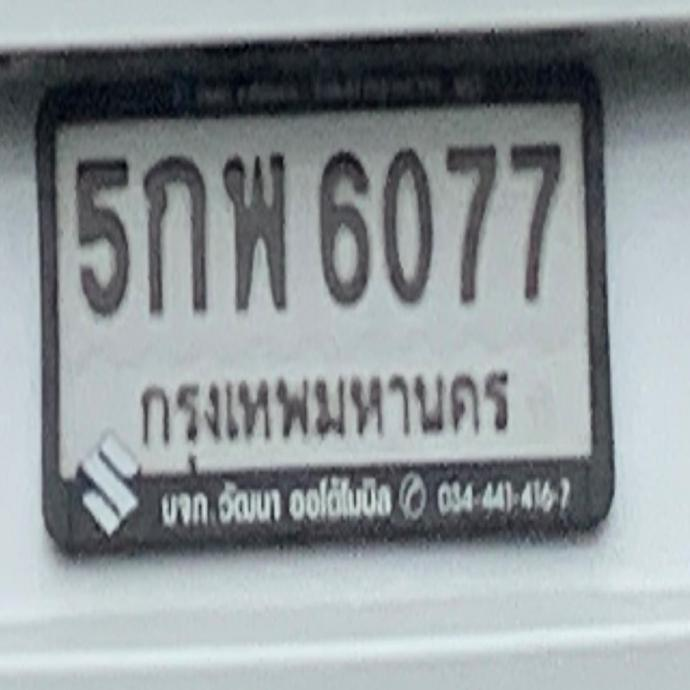0: (381, 145, 433, 305)
5: (74, 153, 129, 316)
6: (318, 148, 369, 306)
7: (508, 139, 560, 302), (445, 141, 497, 302)
A01: (141, 152, 207, 315)
A30: (222, 148, 288, 311)
BKK: (127, 350, 521, 473)
